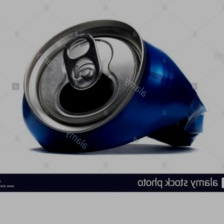can: (12, 12, 214, 167)
